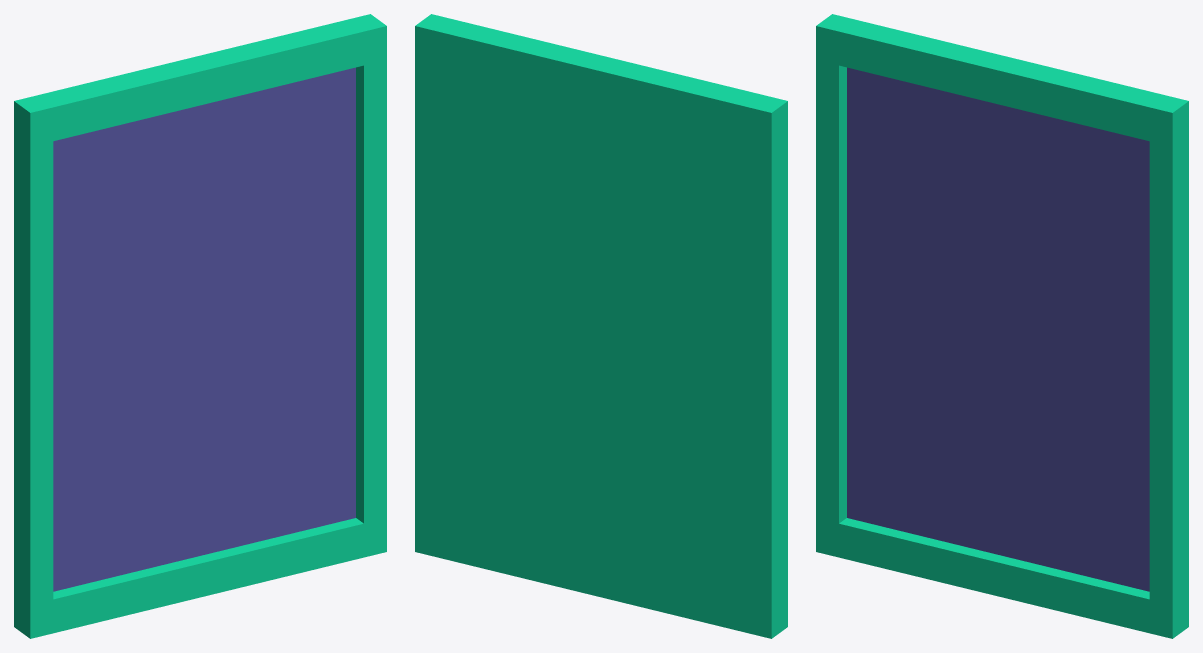
Rendered from cuadro.fbx.
3 views of the same model, side by side, from view 1: azimuth 30°, elevation 25°; view 2: azimuth 150°, elevation 25°; view 3: azimuth 330°, elevation 25° (orthographic).
Parts seen in each view (by area): view 1: Cube; view 2: Cube; view 3: Cube.
Part boxes in pixels (box(x1,y1,x2,y2)): Cube: box(14, 14, 386, 638); Cube: box(415, 14, 787, 638); Cube: box(816, 14, 1188, 638).
Bounding box in the file's own units: 200 × 282 × 15.9.
